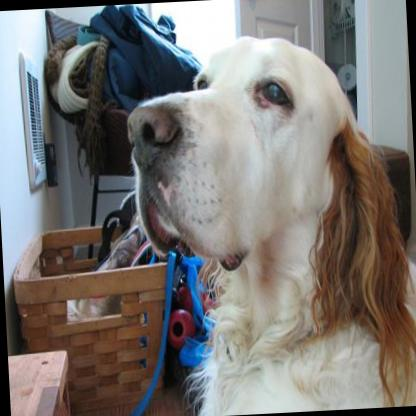English_setter: (115, 18, 416, 415)
